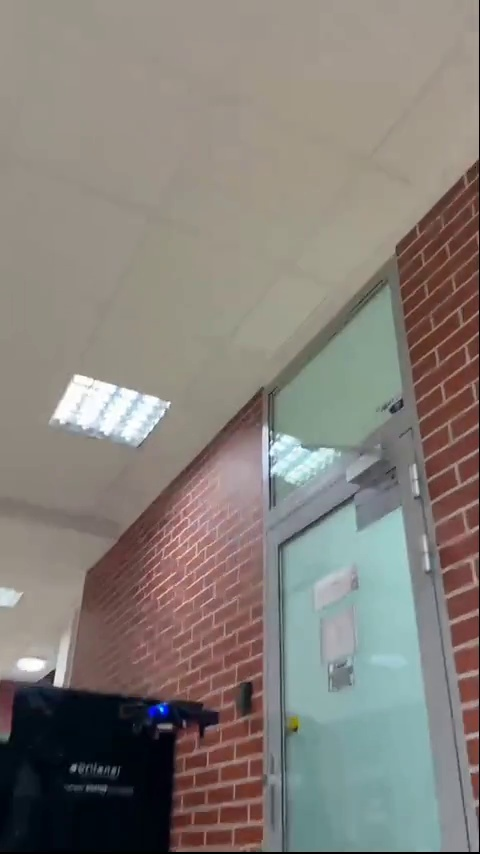drone: (117, 698, 218, 740)
